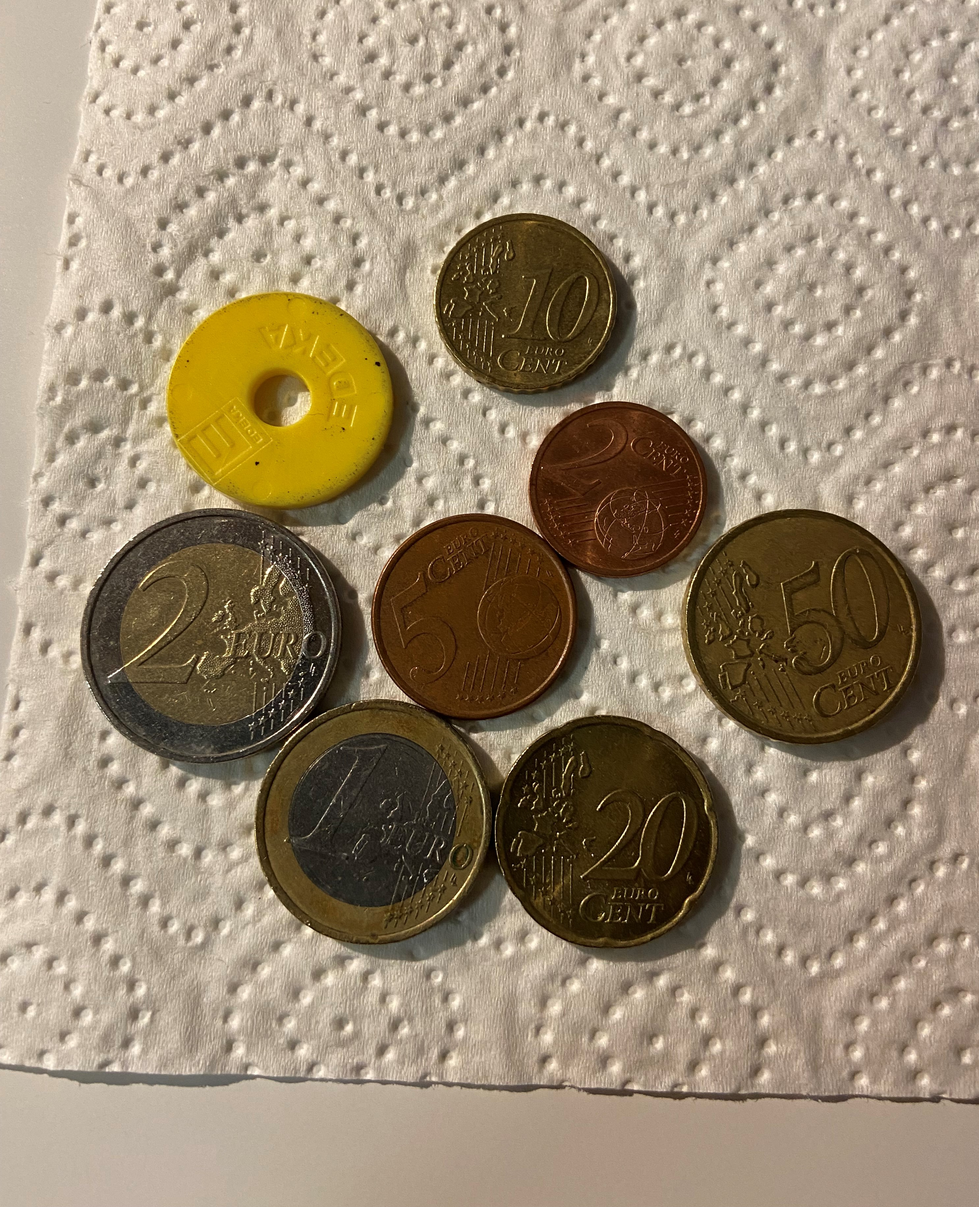1 euro: (255, 700, 492, 945)
10 cent: (432, 217, 629, 397)
2 cent: (528, 402, 707, 579)
2 euro: (81, 509, 342, 765)
20 cent: (494, 716, 718, 949)
5 cent: (370, 515, 577, 721)
50 cent: (682, 510, 921, 745)
